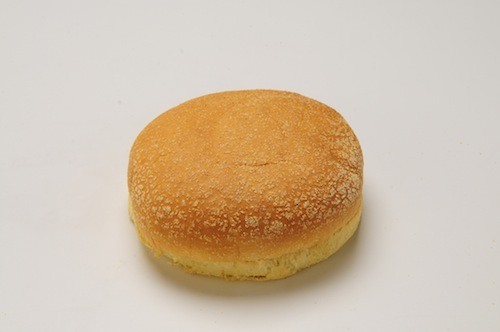hamburger_buns: (116, 83, 386, 296)
